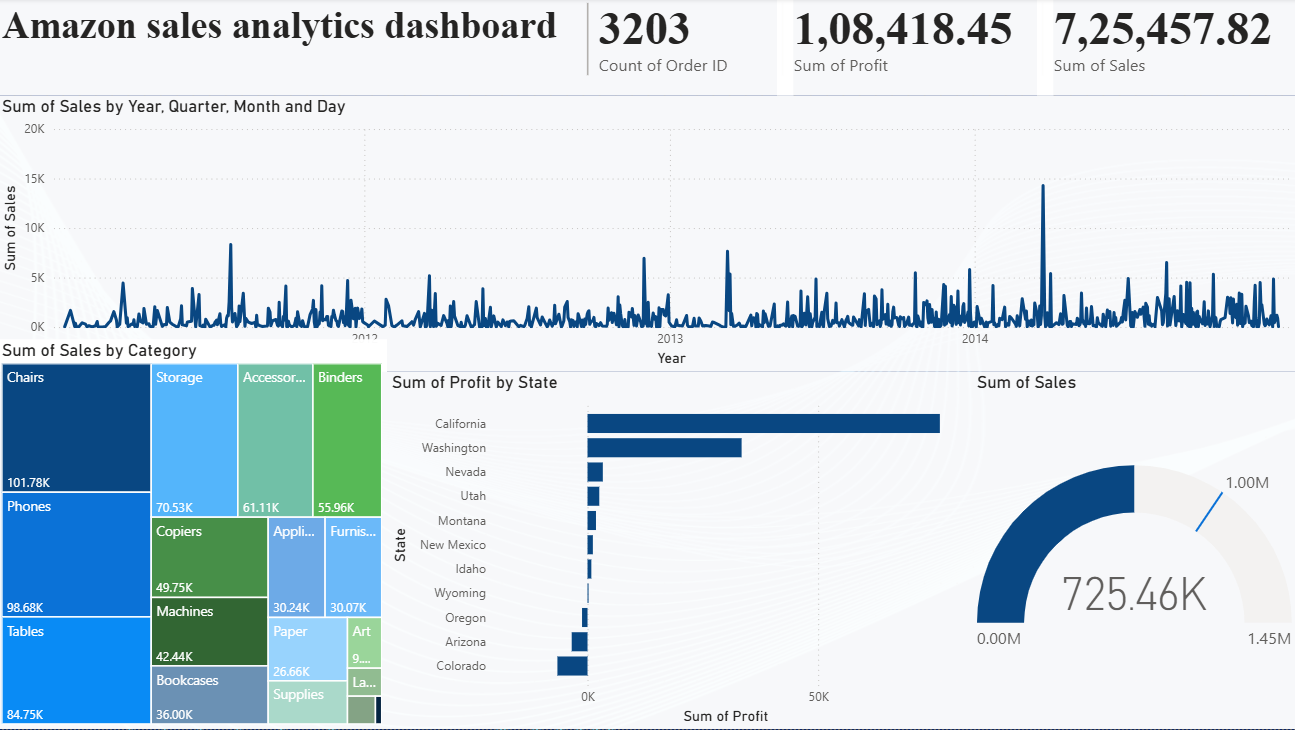

The dashboard page shown, as its layout file describes it:
{"tool":"powerbi","page":{"name":"Page 1","canvas":[1280,720],"ordinal":0},"visuals":[{"type":"multiRowCard","fields":{"Values":["Sum(Walmart.Sales)"]},"box":[1024,0,256,96],"z":0},{"type":"multiRowCard","fields":{"Values":["Sum(Walmart.Profit)"]},"box":[768,0,272,96],"z":1000},{"type":"multiRowCard","fields":{"Values":["CountNonNull(Walmart.Order ID)"]},"box":[576,0,208,96],"z":2000},{"type":"lineChart","fields":{"Category":["Walmart.Order Date.Variation.Date Hierarchy.Year","Walmart.Order Date.Variation.Date Hierarchy.Quarter","Walmart.Order Date.Variation.Date Hierarchy.Month","Walmart.Order Date.Variation.Date Hierarchy.Day"],"Y":["Sum(Walmart.Sales)"]},"box":[0,96,1280,272],"z":3000},{"type":"treemap","fields":{"Group":["Walmart.Category"],"Values":["Sum(Walmart.Sales)"]},"box":[0,336,384,384],"z":4000},{"type":"barChart","fields":{"Category":["Walmart.State"],"Y":["Sum(Walmart.Profit)"]},"box":[384,368,576,352],"z":5000},{"type":"gauge","fields":{"Y":["Sum(Walmart.Sales)"]},"box":[960,368,320,352],"z":6000},{"type":"textbox","box":[0,0,576,96],"z":7000}]}

Visuals, with their boxes in screenshot pixels (x1, y1, x2, y2), scaled from the page's 1280x720 canvas onto the 1295x730 screenshot:
multiRowCard - Sum(Walmart.Sales): (left=1036, top=0, right=1294, bottom=97)
multiRowCard - Sum(Walmart.Profit): (left=777, top=0, right=1052, bottom=97)
multiRowCard - CountNonNull(Walmart.Order ID): (left=583, top=0, right=793, bottom=97)
lineChart - Walmart.Order Date.Variation.Date Hierarchy.Year x Walmart.Order Date.Variation.Date Hierarchy.Quarter: (left=0, top=97, right=1294, bottom=373)
treemap - Walmart.Category x Sum(Walmart.Sales): (left=0, top=341, right=388, bottom=729)
barChart - Walmart.State x Sum(Walmart.Profit): (left=388, top=373, right=971, bottom=729)
gauge - Sum(Walmart.Sales): (left=971, top=373, right=1294, bottom=729)
textbox: (left=0, top=0, right=583, bottom=97)
